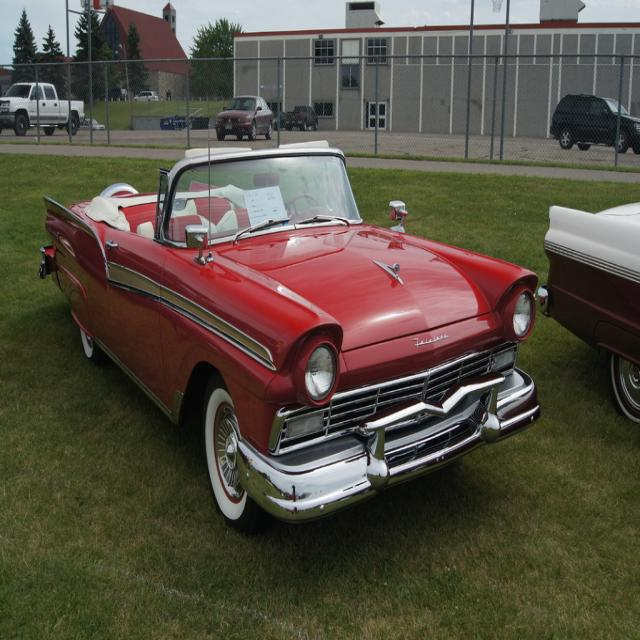car: (33, 137, 549, 532)
